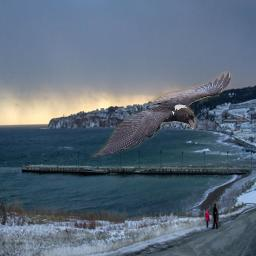Crow: (90, 71, 232, 159)
